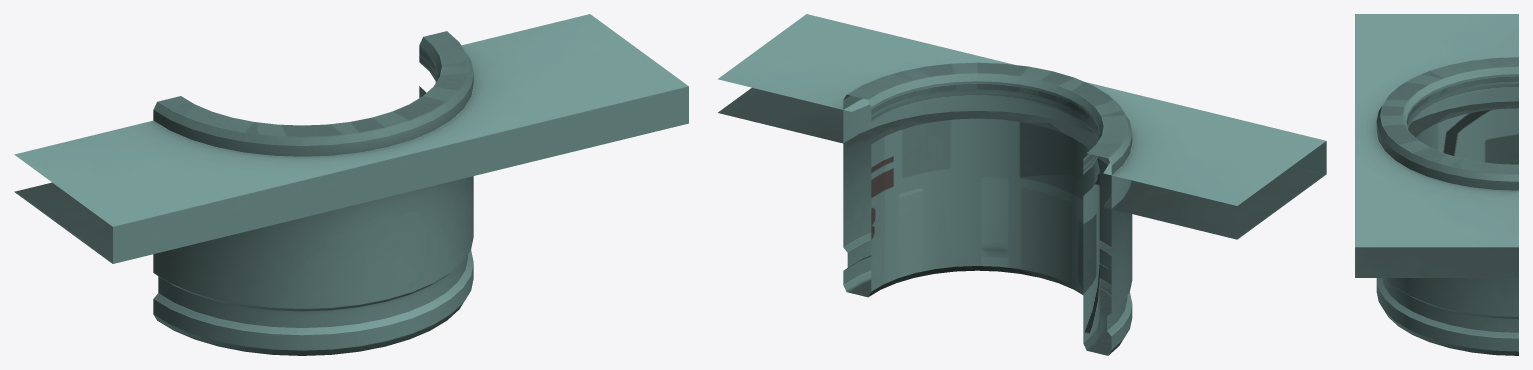
File: Cueva_Salida_Laboratorio_Tapa.fbx
The picture shows the model from 3 angles, left to right: view 1: azimuth 30°, elevation 25°; view 2: azimuth 150°, elevation 25°; view 3: azimuth 270°, elevation 25°; orthographic projection. The views are drawn at different scales.
Visible parts, largest first — view 1: Cueva_Salida_Laboratorio_Tapa; view 2: Cueva_Salida_Laboratorio_Tapa; view 3: Cueva_Salida_Laboratorio_Tapa.
Boxes of the visible parts, box(x1,y1,x2,y2) form: Cueva_Salida_Laboratorio_Tapa: box(14, 14, 688, 355); Cueva_Salida_Laboratorio_Tapa: box(718, 14, 1326, 355); Cueva_Salida_Laboratorio_Tapa: box(1355, 14, 1518, 355).
Size of the model in its own units: 2538 by 921 by 754.
